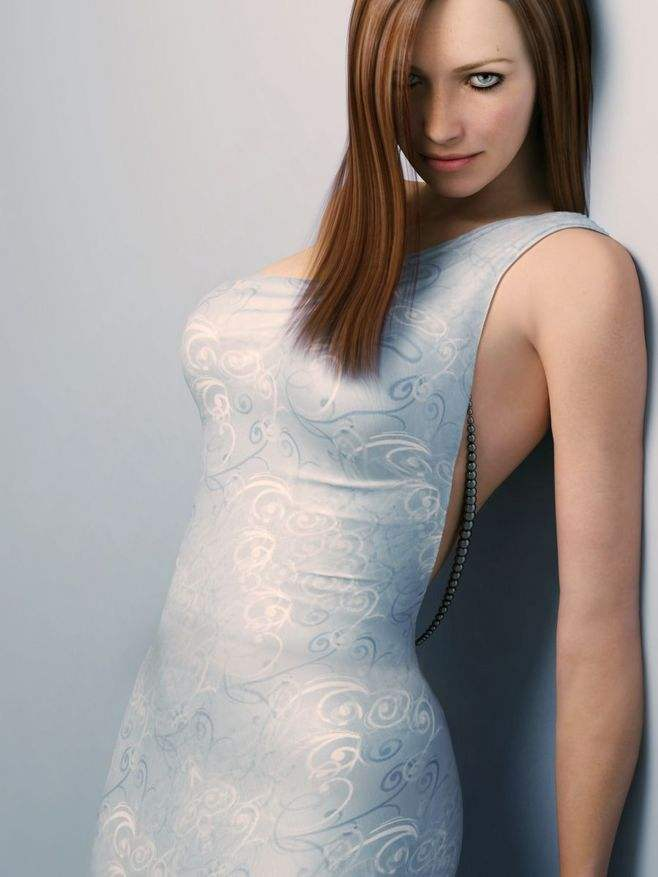person: (210, 52, 585, 836)
